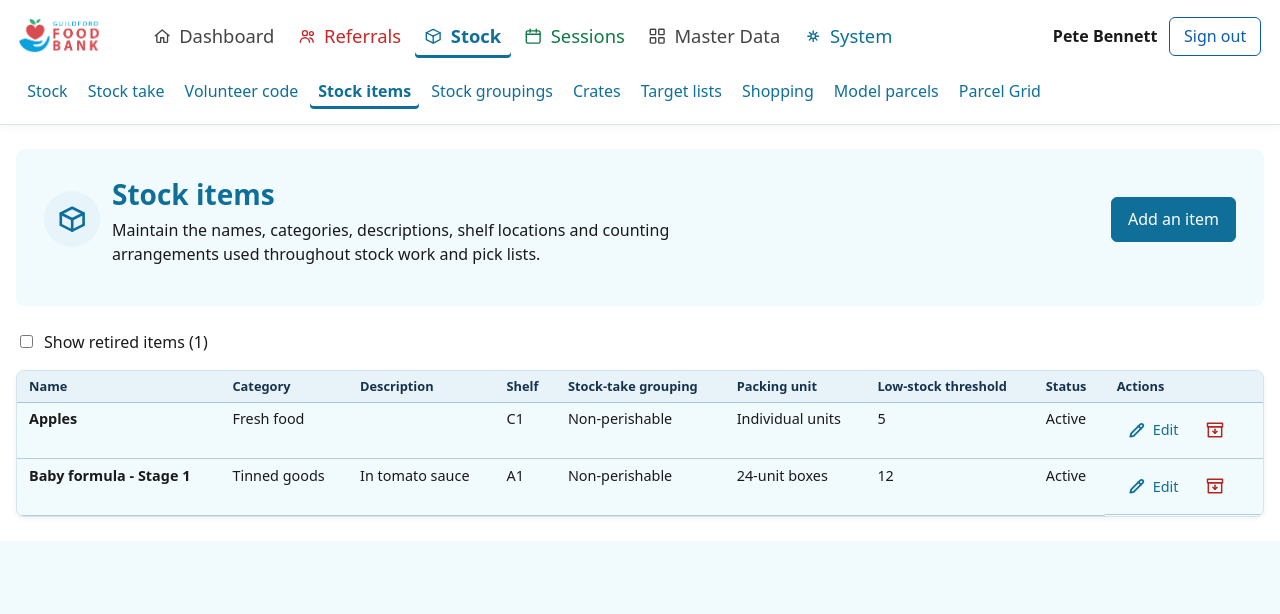
Test: stock-item maintenance › lists active items by category then name, keeping a packed directly grouped item in its grouping
The width and height of the screenshot is (1280, 614).
Check: the text "Non-perishable" in the row of "Baby formula - Stage 1" is shown, box [568,466,672,485]
Check: the text "Rice" is not shown
Click the checkbox labelled "Show retired items (1)" at (26, 342), box [20,335,33,348]
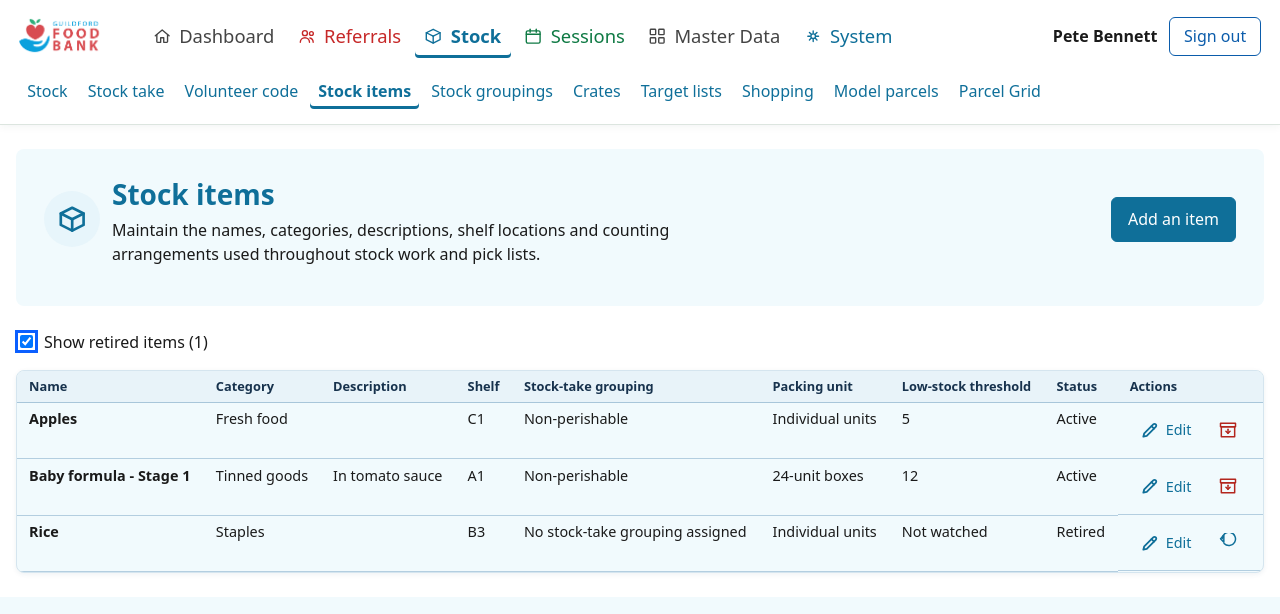
Check: the row "Rice" shows "Retired", box [1056,522,1105,541]
Check: the button named "Reactivate Rice" is shown, box [1206,521,1250,565]
